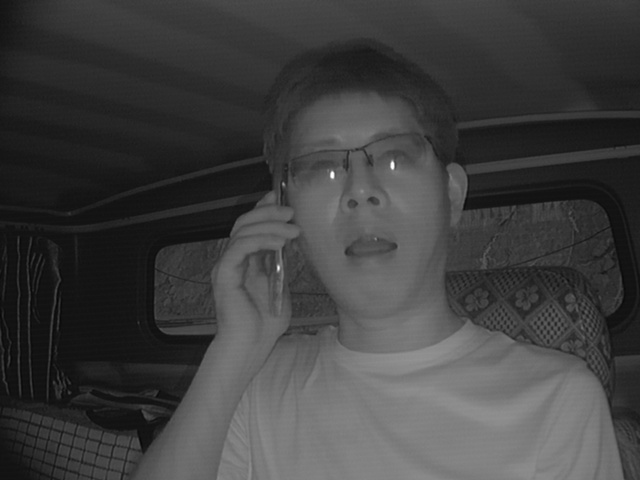hand: (208, 195, 295, 347)
